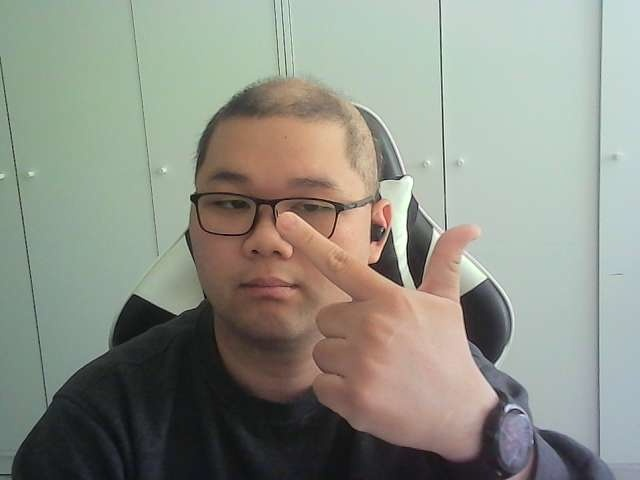Two: (277, 212, 483, 433)
